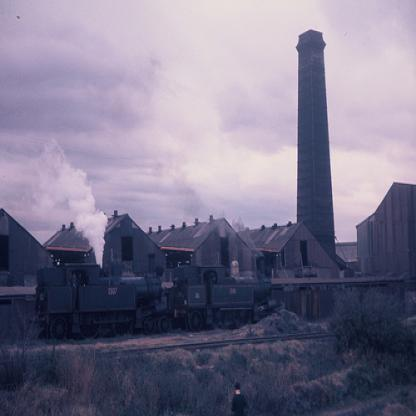train: (35, 261, 275, 340)
